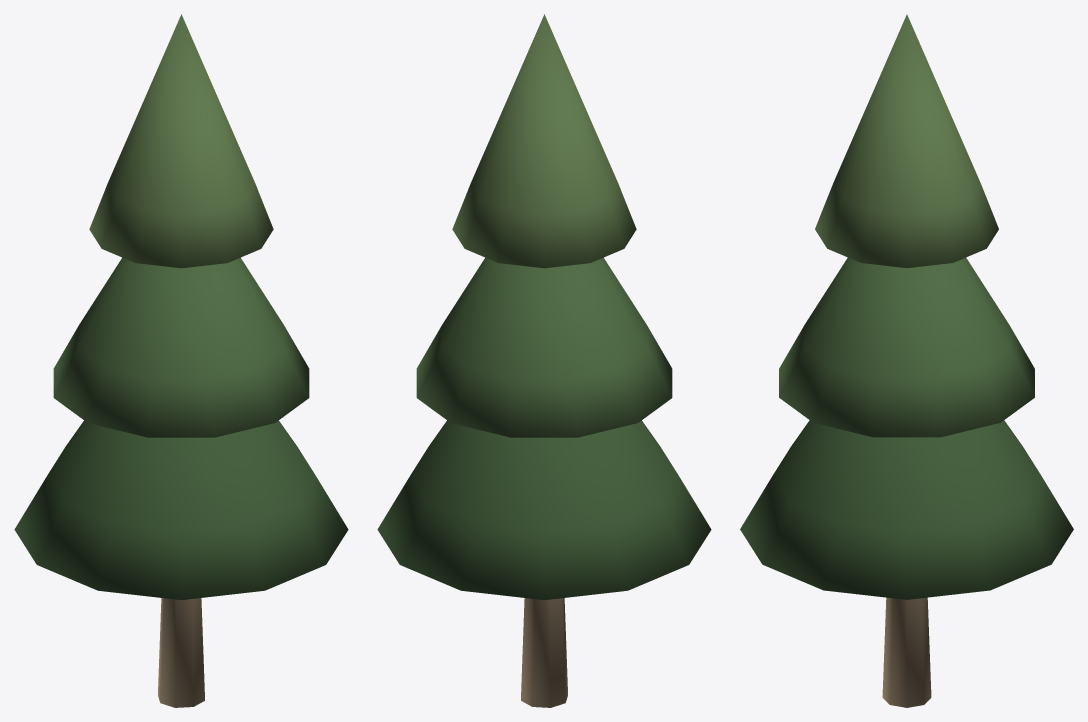
File: wild_tree_pine.glb
The picture shows the model from 3 angles, left to right: view 1: azimuth 30°, elevation 25°; view 2: azimuth 150°, elevation 25°; view 3: azimuth 270°, elevation 25°; orthographic projection.
Visible parts, largest first — view 1: wild_tree_pine; view 2: wild_tree_pine; view 3: wild_tree_pine.
Boxes of the visible parts, x1=… form: wild_tree_pine: x1=14, y1=14, x2=348, y2=707; wild_tree_pine: x1=377, y1=14, x2=711, y2=707; wild_tree_pine: x1=740, y1=14, x2=1073, y2=707.
Bounding box in the file's own units: 1.16 × 2.62 × 1.16.
